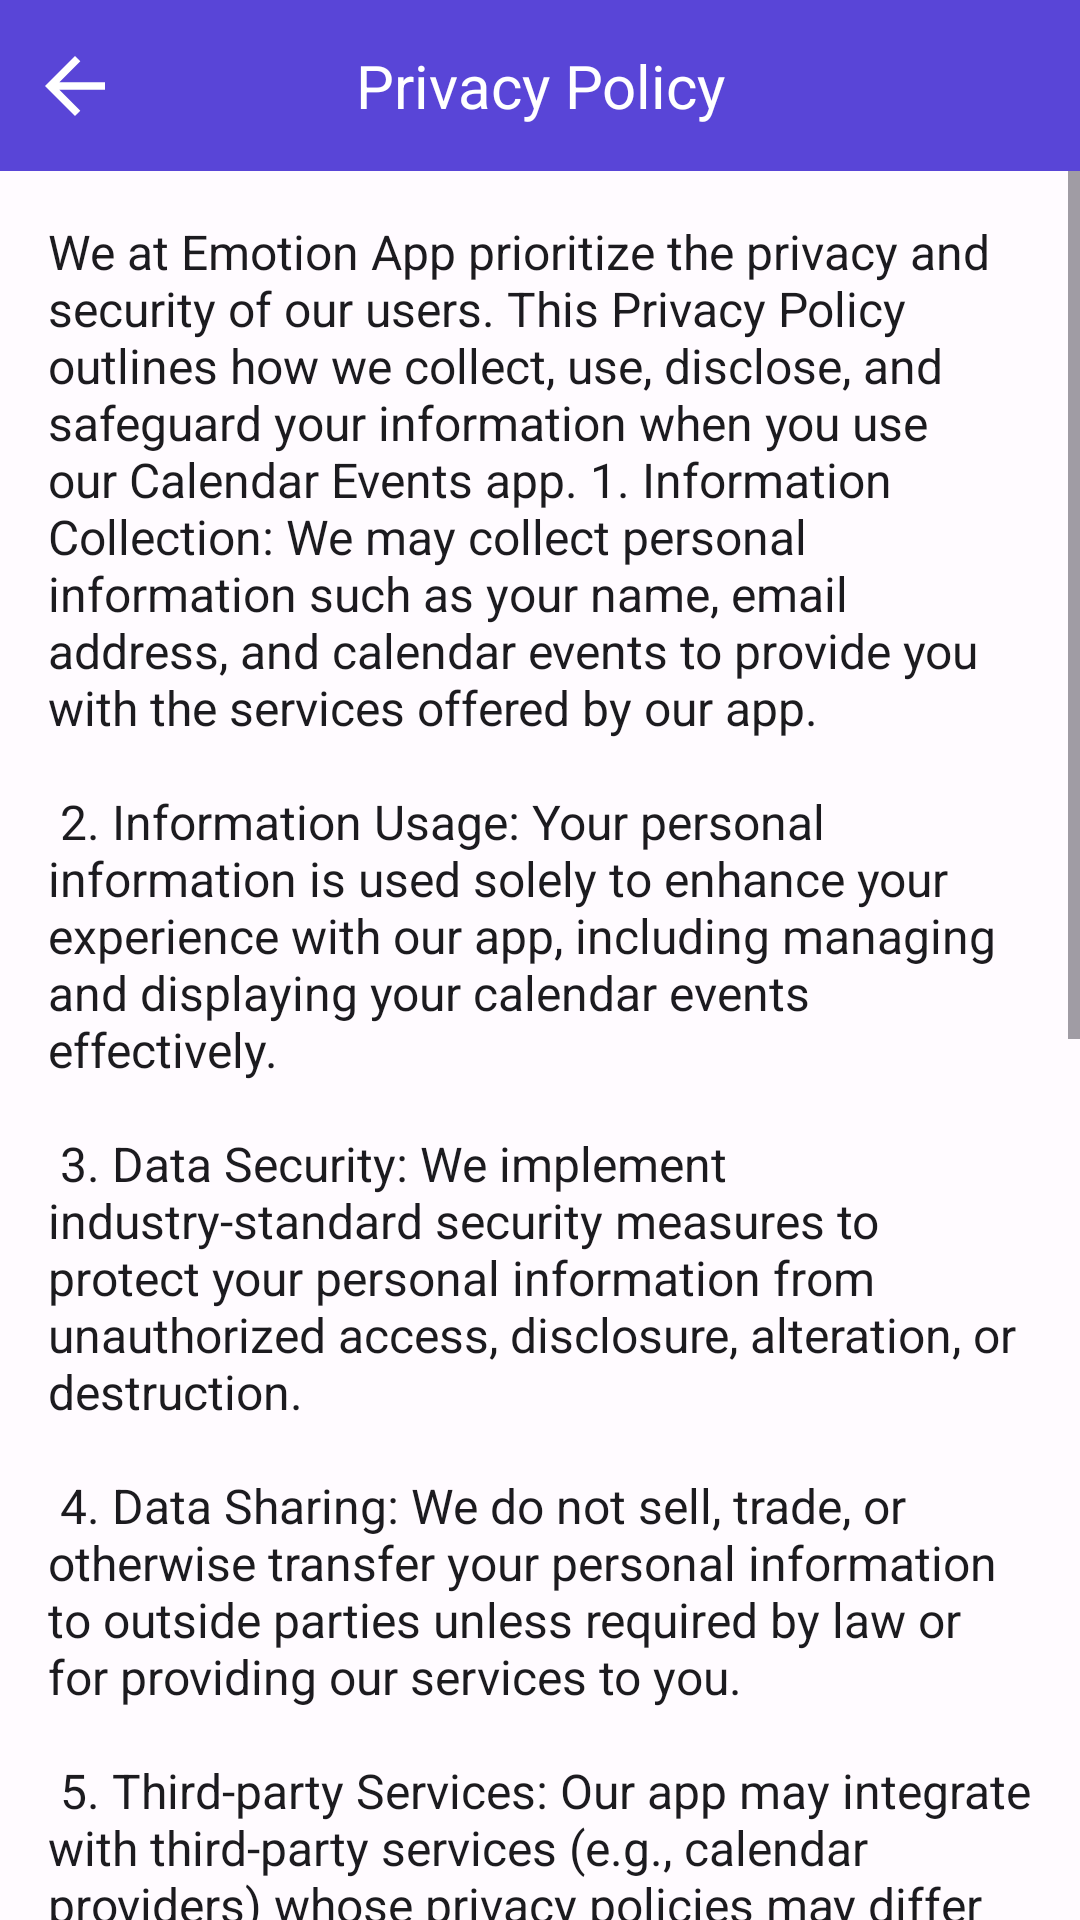

Where to tap for icons on this 1080x1920 app screen, as (x=x, y=y):
arrow back: (x=75, y=86)
